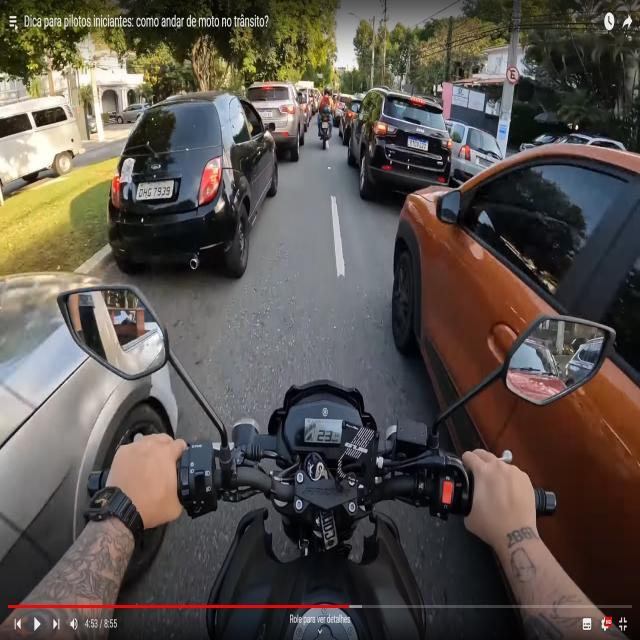Placa_mercosul_carro: (136, 180, 173, 199)
